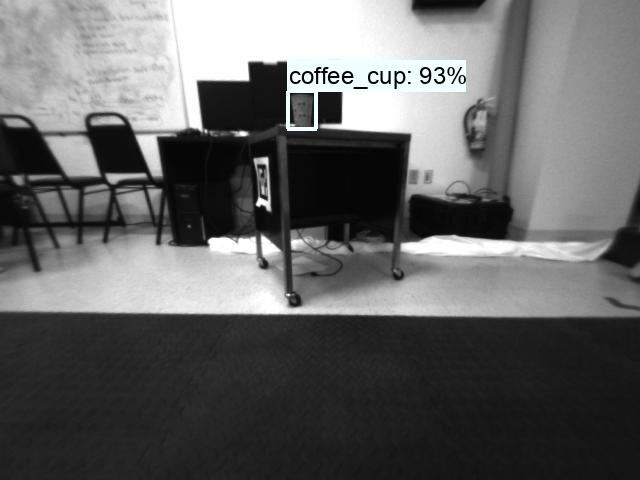coffee_cup: (288, 92, 315, 132)
